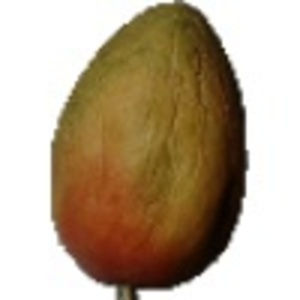mamão: (40, 6, 260, 297)
